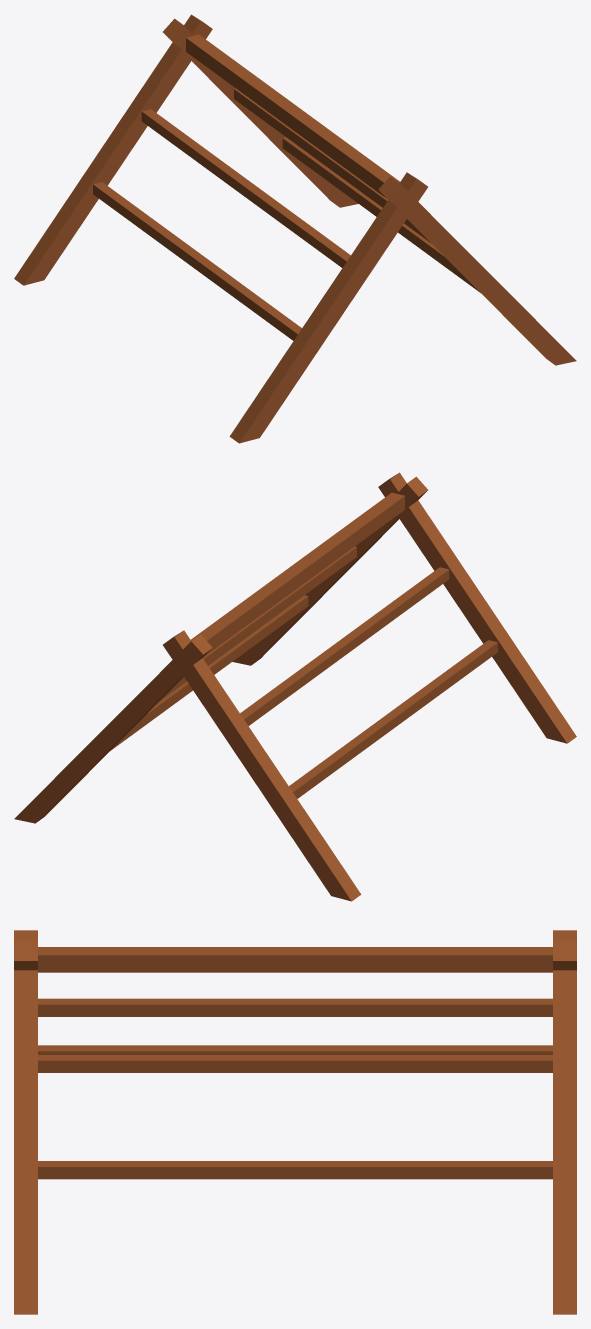
The model's file is Wood Tent 1.glb.
3 views of the same model, one above another, from view 1: azimuth 30°, elevation 25°; view 2: azimuth 150°, elevation 25°; view 3: azimuth 270°, elevation 25° (orthographic). The views are drawn at different scales.
Parts seen in each view (by area): view 1: WoodTent1; view 2: WoodTent1; view 3: WoodTent1.
Part boxes in pixels (left/top/right/bottom): WoodTent1: left=14, top=14, right=576, bottom=443; WoodTent1: left=14, top=472, right=576, bottom=901; WoodTent1: left=14, top=930, right=576, bottom=1314.
Size of the model in its own units: 1.81 by 1.13 by 2.09.
